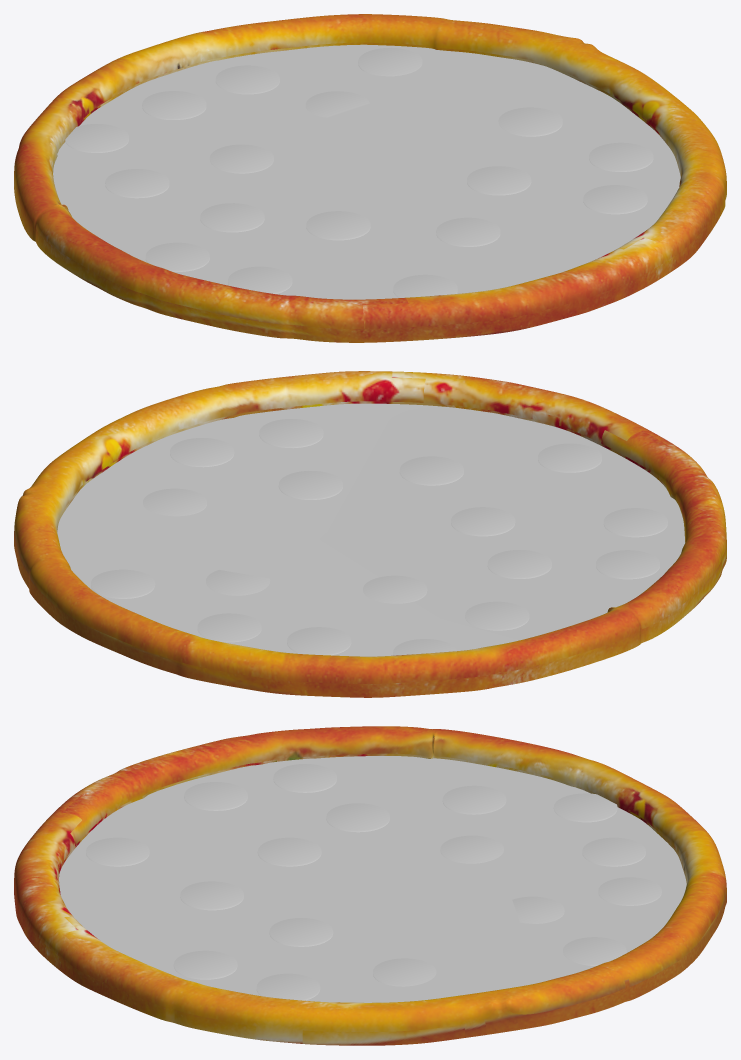
The model's file is pizza.gltf.
3 renders of one model, top to bottom at view 1: azimuth 30°, elevation 25°; view 2: azimuth 150°, elevation 25°; view 3: azimuth 270°, elevation 25°, orthographic.
Parts seen in each view (by area): view 1: Circle.001_3, Circle_2, Cylinder_4, Cylinder.002_6, Cylinder.005_9, Cylinder.009_13, Cylinder.001_5, Cylinder.003_7, Cylinder.011_15, Cylinder.004_8, Cylinder.013_17, Cylinder.014_18 (+7 smaller); view 2: Circle.001_3, Circle_2, Cylinder.001_5, Cylinder.008_12, Cylinder.007_11, Cylinder.009_13, Cylinder.016_20, Cylinder.002_6, Cylinder_4, Cylinder.003_7, Cylinder.006_10, Cylinder.005_9 (+7 smaller); view 3: Circle.001_3, Circle_2, Cylinder.009_13, Cylinder.008_12, Cylinder.002_6, Cylinder.005_9, Cylinder.001_5, Cylinder.013_17, Cylinder_4, Cylinder.006_10, Cylinder.007_11, Cylinder.011_15 (+7 smaller).
Boxes of the visible parts, <box> form: Circle.001_3: <box>53,44,680,299</box>; Circle_2: <box>14,14,726,342</box>; Cylinder_4: <box>467,166,531,195</box>; Cylinder.002_6: <box>583,185,647,214</box>; Cylinder.005_9: <box>200,203,264,232</box>; Cylinder.009_13: <box>306,211,370,240</box>; Cylinder.001_5: <box>436,217,500,246</box>; Cylinder.003_7: <box>589,142,653,171</box>; Cylinder.011_15: <box>105,169,169,198</box>; Cylinder.004_8: <box>498,107,562,136</box>; Cylinder.013_17: <box>142,91,206,119</box>; Cylinder.014_18: <box>215,65,279,94</box>; Circle.001_3: <box>57,403,685,656</box>; Circle_2: <box>14,371,726,697</box>; Cylinder.001_5: <box>399,456,463,485</box>; Cylinder.008_12: <box>538,443,601,472</box>; Cylinder.007_11: <box>603,508,667,537</box>; Cylinder.009_13: <box>451,507,515,536</box>; Cylinder.016_20: <box>91,569,155,598</box>; Cylinder.002_6: <box>259,419,323,448</box>; Cylinder_4: <box>278,471,342,499</box>; Cylinder.003_7: <box>170,438,234,467</box>; Cylinder.006_10: <box>596,550,659,579</box>; Cylinder.005_9: <box>487,550,551,578</box>; Circle.001_3: <box>59,756,686,1002</box>; Circle_2: <box>14,726,726,1045</box>; Cylinder.009_13: <box>257,837,321,866</box>; Cylinder.008_12: <box>86,837,149,866</box>; Cylinder.002_6: <box>173,950,237,979</box>; Cylinder.005_9: <box>326,803,389,832</box>; Cylinder.001_5: <box>180,881,243,910</box>; Cylinder.013_17: <box>582,837,645,866</box>; Cylinder_4: <box>269,918,333,946</box>; Cylinder.006_10: <box>273,764,336,792</box>; Cylinder.007_11: <box>184,782,247,810</box>; Cylinder.011_15: <box>442,785,506,814</box>.
Size of the model in its own units: 0.8254 by 0.0445 by 0.8418.
